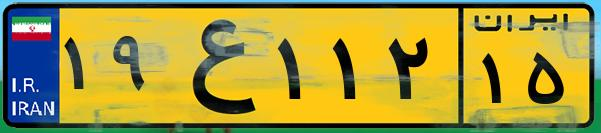1: (270, 28, 330, 110), (330, 28, 385, 110), (57, 26, 110, 100), (475, 38, 525, 113)
2: (385, 28, 445, 110)
5: (525, 38, 570, 115)
9: (110, 28, 158, 98)
ع: (158, 12, 270, 120)
